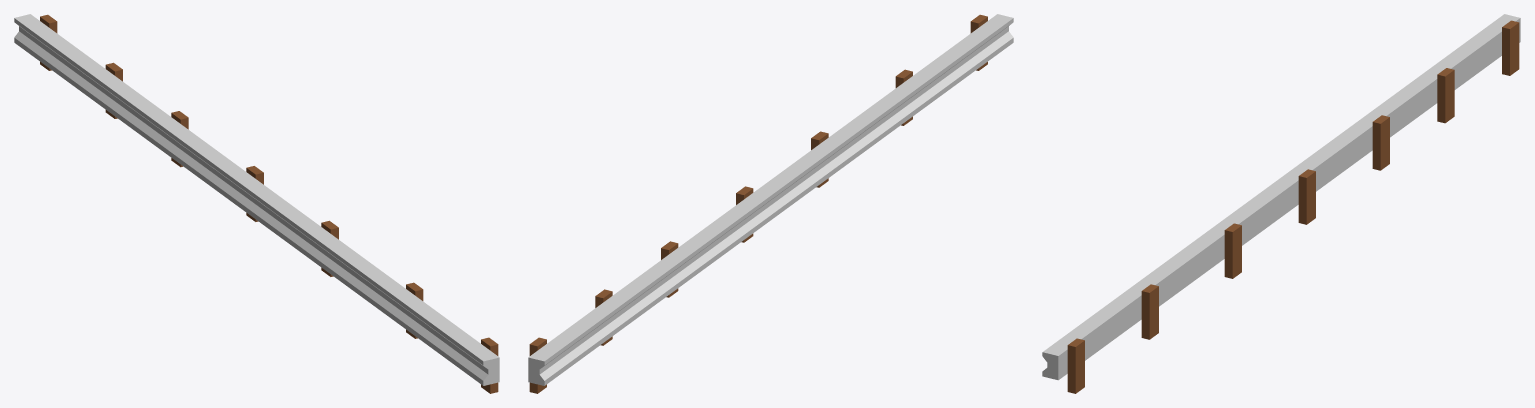
File: railbase.fbx
3 renders of one model, left to right at view 1: azimuth 30°, elevation 25°; view 2: azimuth 150°, elevation 25°; view 3: azimuth 330°, elevation 25°, orthographic.
Parts seen in each view (by area): view 1: RailBase; view 2: RailBase; view 3: RailBase.
Boxes of the visible parts, x1,y1,x2,y2 form: RailBase: (14, 14, 499, 393); RailBase: (528, 14, 1013, 393); RailBase: (1042, 14, 1520, 393).
Size of what is drawn, in the model's own units: 15 by 28 by 500.
